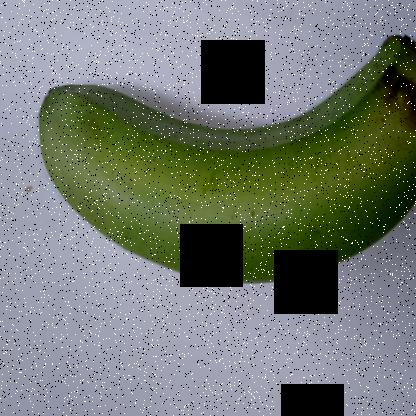freshunripe: (32, 24, 415, 292)
